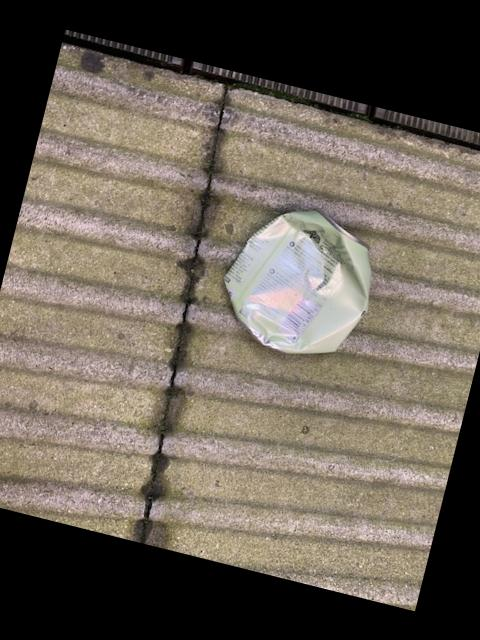metal: (226, 209, 372, 351)
